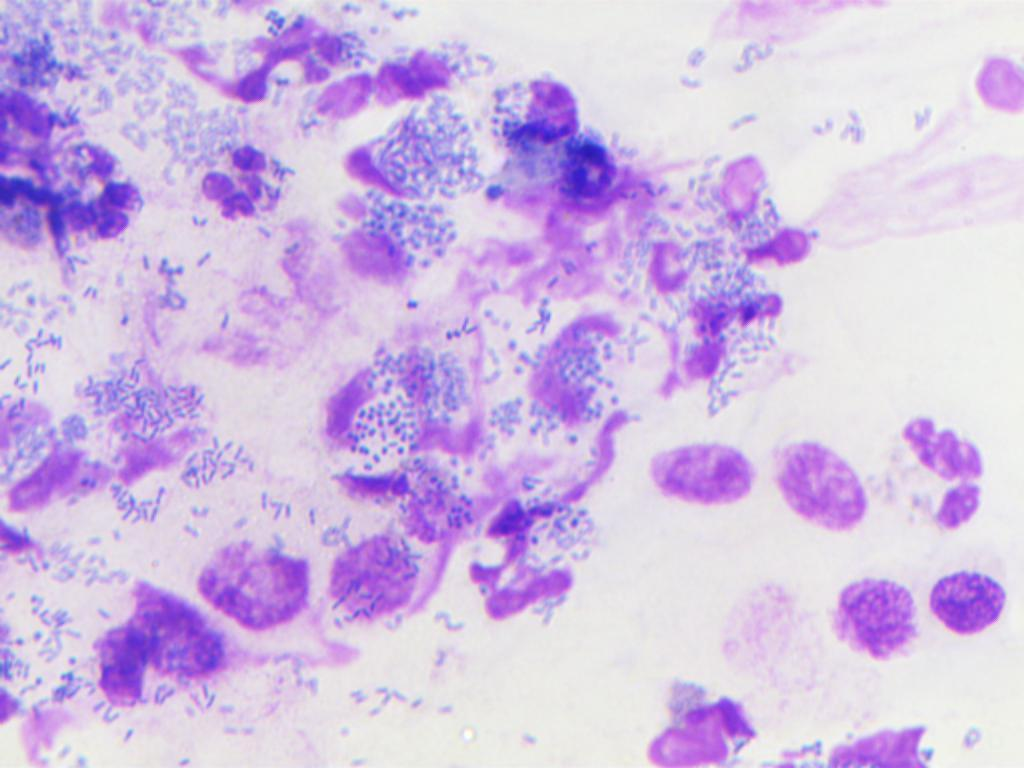artifact: (316, 359, 486, 507), (91, 574, 231, 713), (0, 383, 112, 516), (517, 303, 638, 420), (208, 22, 359, 110), (118, 408, 214, 492), (323, 208, 424, 285), (341, 119, 425, 208)
epithelial: (184, 518, 319, 638), (765, 420, 874, 546), (328, 518, 430, 645), (635, 430, 763, 526), (632, 687, 776, 765), (924, 538, 1007, 654), (827, 572, 920, 669), (969, 53, 1024, 126)
neutrophil: (502, 70, 634, 212), (877, 403, 993, 538), (706, 141, 822, 273), (14, 145, 151, 245), (678, 287, 797, 394), (311, 38, 451, 128), (187, 131, 284, 230), (486, 552, 583, 620)
